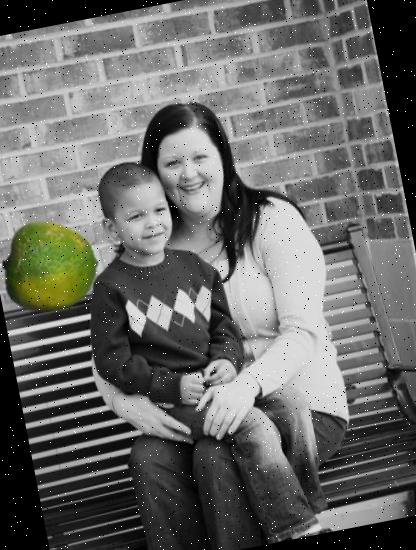Limes: (0, 210, 107, 323)
